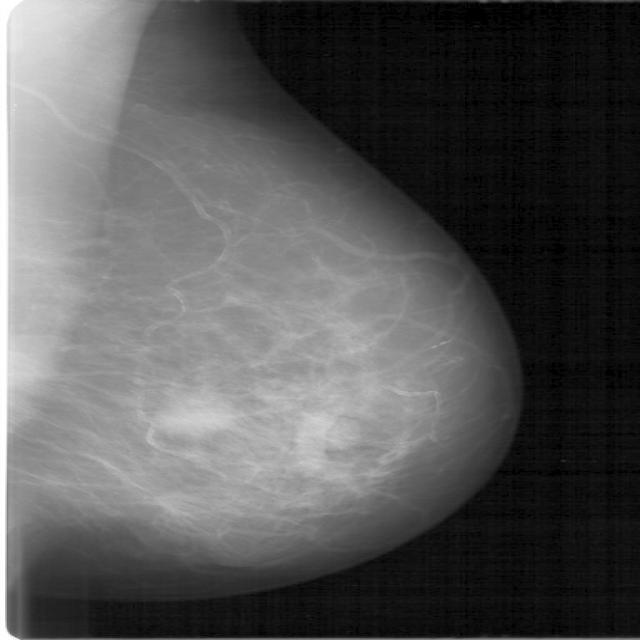tumour: (155, 389, 233, 434)
